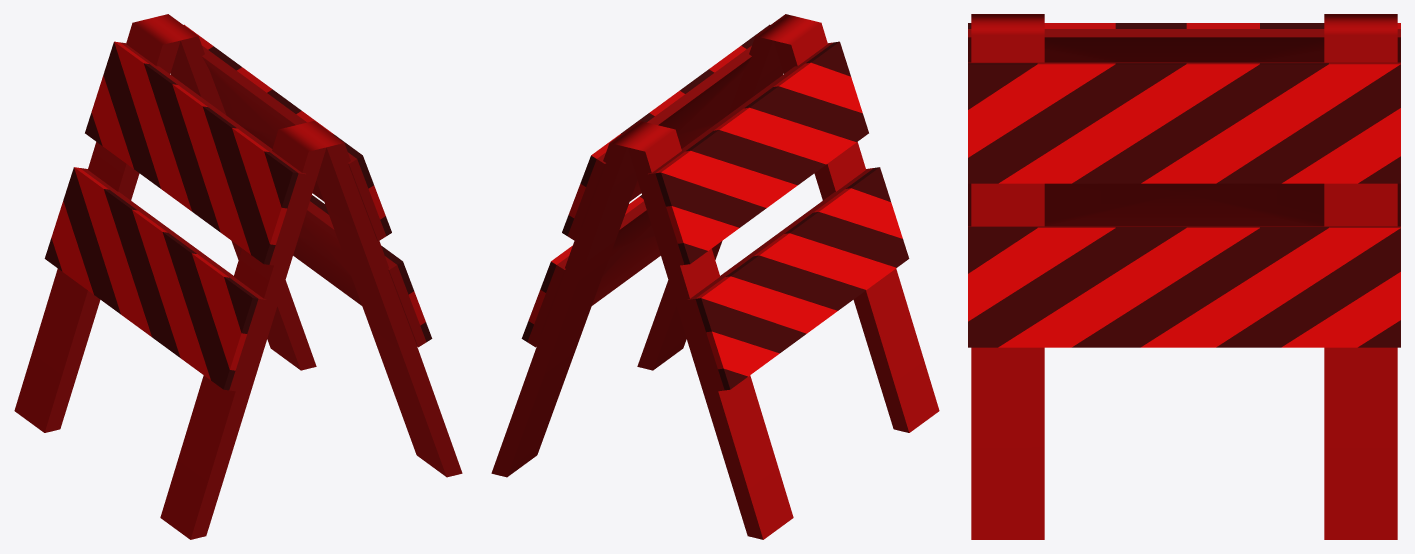
Rendered from RoadworksSign.glb.
3 renders of one model, left to right at view 1: azimuth 30°, elevation 25°; view 2: azimuth 150°, elevation 25°; view 3: azimuth 270°, elevation 25°, orthographic. The views are drawn at different scales.
Parts seen in each view (by area): view 1: RoadworksSign; view 2: RoadworksSign; view 3: RoadworksSign.
Part boxes in pixels (box(x1,y1,x2,y2)): RoadworksSign: box(14, 14, 462, 539); RoadworksSign: box(491, 14, 939, 539); RoadworksSign: box(968, 14, 1400, 539).
Bounding box in the file's own units: 3.88 × 4.9 × 4.42.
